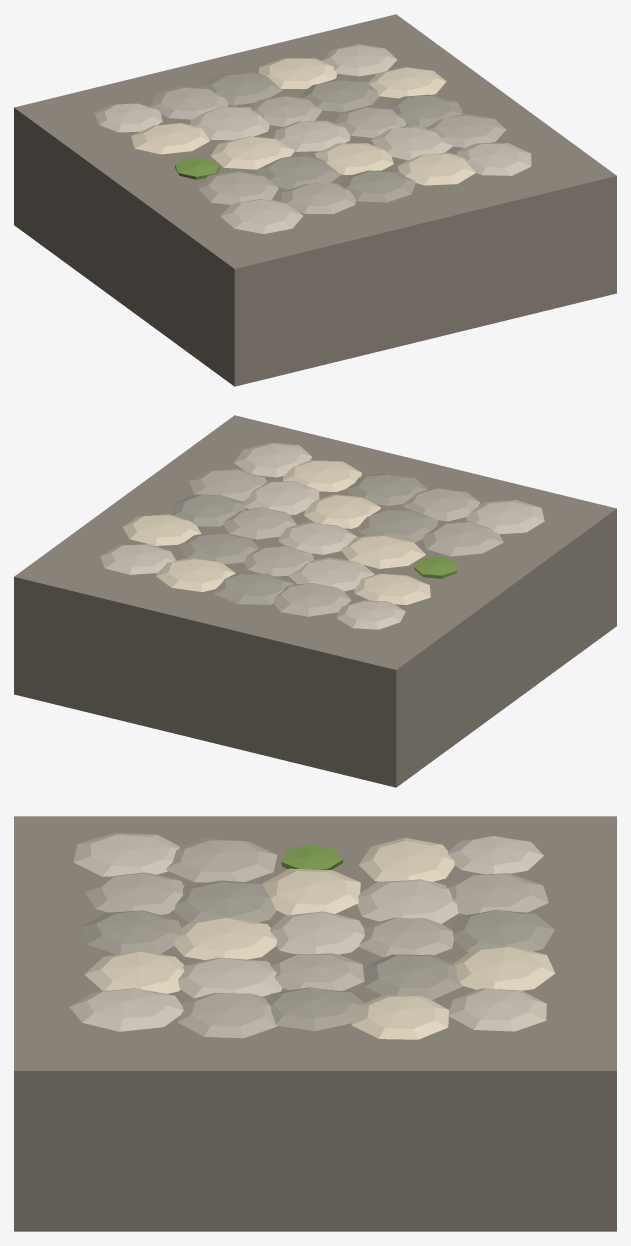
Rendered from tile_cobblestone.glb.
The picture shows the model from 3 angles, top to bottom: view 1: azimuth 30°, elevation 25°; view 2: azimuth 150°, elevation 25°; view 3: azimuth 270°, elevation 25°; orthographic projection. The views are drawn at different scales.
Visible parts, largest first — view 1: cobble_body, cobble_cap, cobble_0, cobble_5, cobble_11, cobble_16, cobble_6, cobble_4, cobble_18, cobble_3, cobble_15, cobble_2 (+15 smaller); view 2: cobble_body, cobble_cap, cobble_5, cobble_11, cobble_21, cobble_0, cobble_23, cobble_4, cobble_6, cobble_18, cobble_22, cobble_19 (+15 smaller); view 3: cobble_body, cobble_cap, cobble_5, cobble_4, cobble_0, cobble_11, cobble_9, cobble_23, cobble_16, cobble_7, cobble_18, cobble_6 (+15 smaller).
Part boxes in pixels (left/top/right/bottom): cobble_body: left=14, top=121, right=616, bottom=386; cobble_cap: left=14, top=14, right=616, bottom=281; cobble_0: left=220, top=198, right=302, bottom=233; cobble_5: left=198, top=171, right=278, bottom=204; cobble_11: left=210, top=136, right=294, bottom=169; cobble_16: left=190, top=106, right=269, bottom=140; cobble_6: left=256, top=155, right=340, bottom=189; cobble_4: left=456, top=143, right=531, bottom=175; cobble_18: left=300, top=78, right=379, bottom=111; cobble_3: left=397, top=152, right=475, bottom=185; cobble_15: left=131, top=122, right=209, bottom=154; cobble_2: left=340, top=170, right=415, bottom=202; cobble_body: left=14, top=522, right=616, bottom=787; cobble_cap: left=14, top=415, right=616, bottom=682; cobble_5: left=422, top=521, right=503, bottom=556; cobble_11: left=341, top=535, right=425, bottom=568; cobble_21: left=273, top=583, right=351, bottom=616; cobble_0: left=466, top=500, right=544, bottom=534; cobble_23: left=156, top=558, right=235, bottom=591; cobble_4: left=234, top=442, right=311, bottom=477; cobble_6: left=357, top=509, right=438, bottom=542; cobble_18: left=177, top=532, right=258, bottom=564; cobble_22: left=213, top=572, right=293, bottom=604; cobble_19: left=122, top=514, right=201, bottom=545; cobble_body: left=14, top=1088, right=616, bottom=1231; cobble_cap: left=14, top=816, right=616, bottom=1088; cobble_5: left=166, top=838, right=277, bottom=882; cobble_4: left=69, top=988, right=183, bottom=1031; cobble_0: left=73, top=833, right=179, bottom=876; cobble_11: left=262, top=868, right=360, bottom=915; cobble_9: left=177, top=993, right=276, bottom=1038; cobble_23: left=453, top=946, right=555, bottom=990; cobble_16: left=357, top=879, right=458, bottom=923; cobble_7: left=174, top=917, right=276, bottom=960; cobble_18: left=364, top=954, right=463, bottom=999; cobble_6: left=173, top=880, right=276, bottom=922.
Size of the model in its own units: 1.7 by 0.548 by 1.7.
